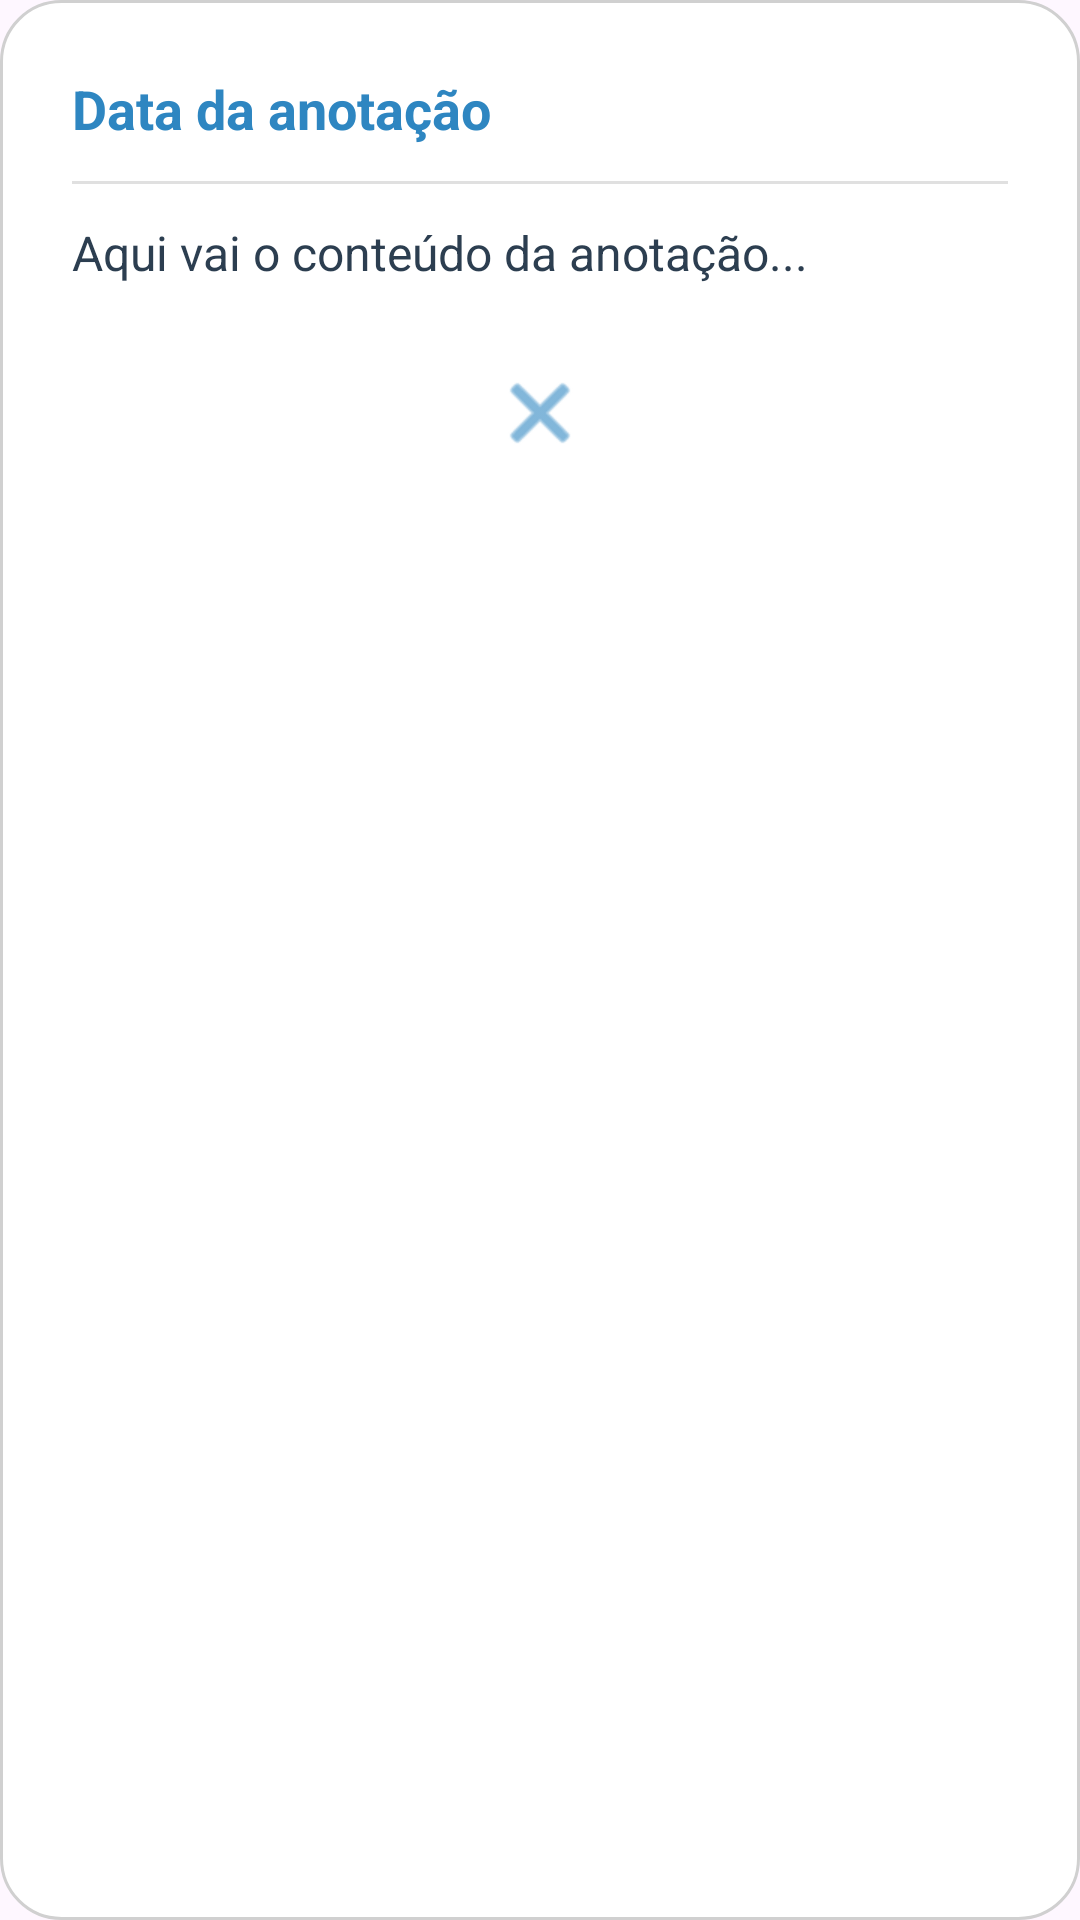

Where to tap for icons on this 1080px x 1920px app screen, as point (x, y):
Fechar: point (540, 413)
